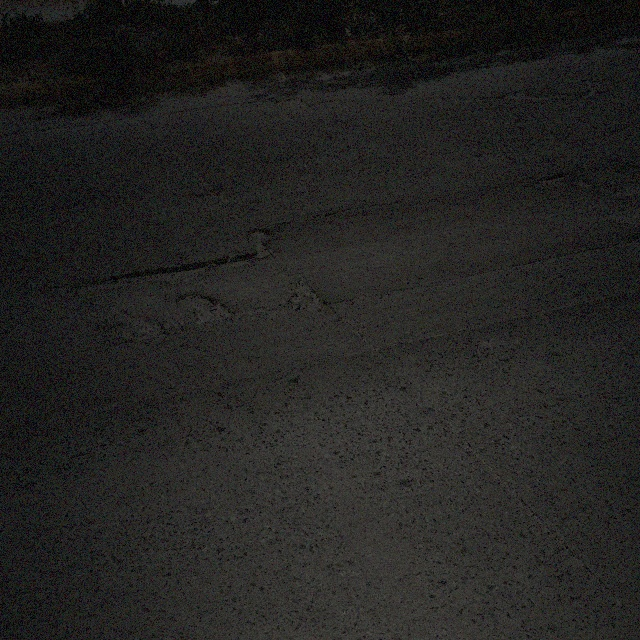pothole: (173, 288, 234, 322), (290, 274, 334, 317), (108, 313, 166, 338), (541, 166, 596, 192), (248, 224, 278, 264), (499, 85, 550, 103), (577, 75, 603, 103), (272, 94, 310, 110), (612, 120, 637, 136), (620, 158, 638, 177)
